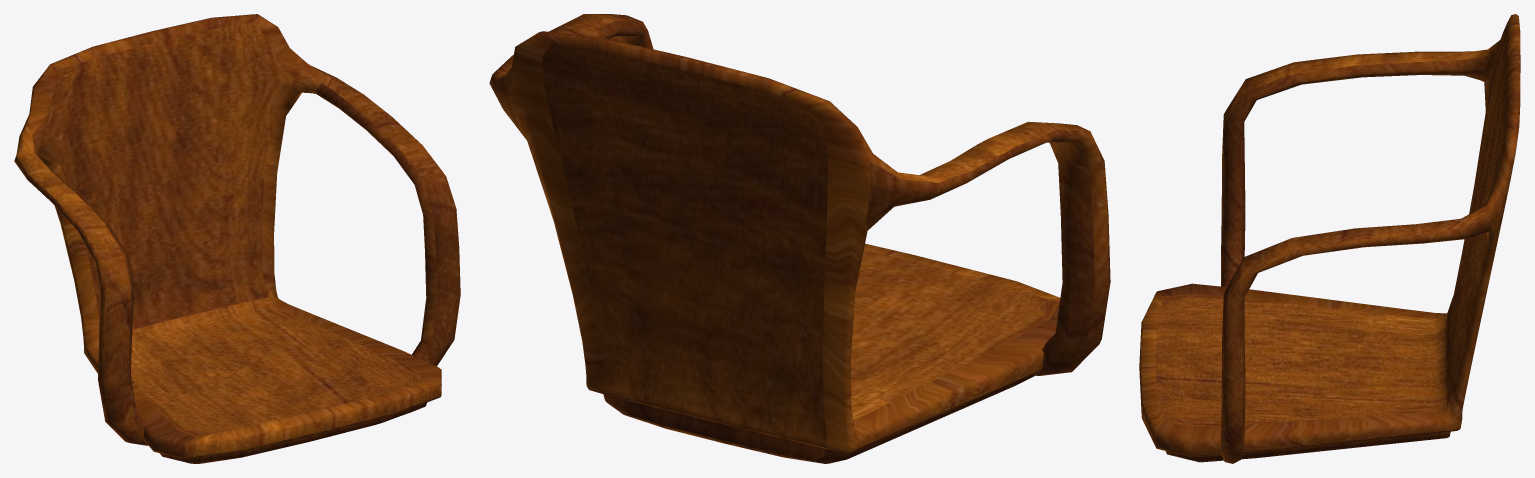
Rendered from silla.fbx.
3 renders of one model, left to right at view 1: azimuth 30°, elevation 25°; view 2: azimuth 150°, elevation 25°; view 3: azimuth 270°, elevation 25°, orthographic. The views are drawn at different scales.
Parts seen in each view (by area): view 1: silla; view 2: silla; view 3: silla.
Boxes of the visible parts, x1,y1,x2,y2 form: silla: (14,14,460,463); silla: (489,14,1110,463); silla: (1139,14,1520,463).
Size of the model in its own units: 63.3 by 50.17 by 51.26.
